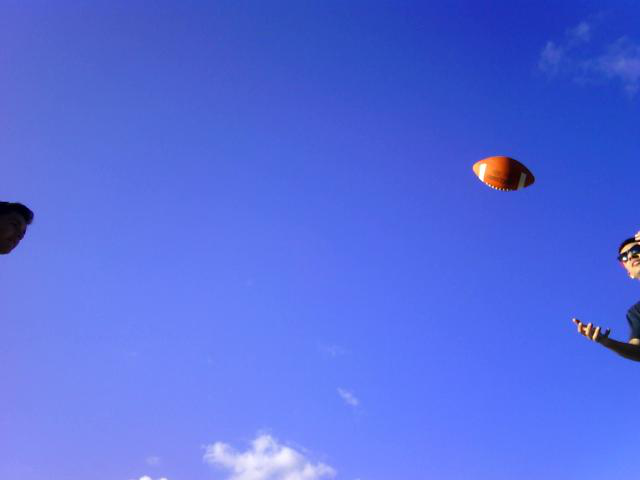football: (466, 152, 542, 199)
